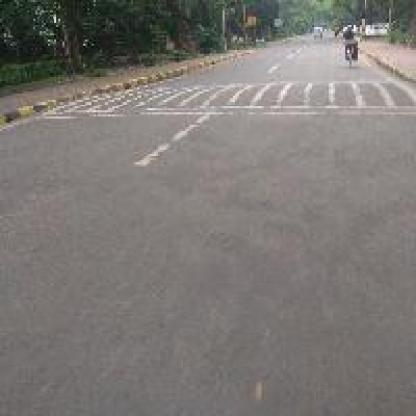Speed Bump: (46, 79, 401, 117)
